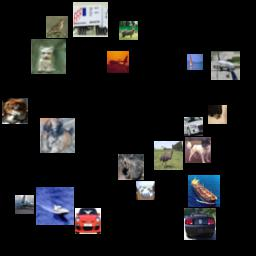airplane: (211, 51, 240, 80), (107, 51, 129, 73), (15, 195, 34, 214)
automobile: (184, 208, 216, 240), (75, 208, 101, 234), (184, 117, 203, 136)
bird: (154, 141, 183, 170), (46, 16, 68, 38)
cat: (136, 181, 155, 200), (208, 105, 227, 124)
deer: (119, 21, 138, 40)
dog: (31, 39, 66, 74), (40, 118, 75, 153), (185, 137, 211, 163), (2, 98, 28, 124)
frog: (118, 154, 144, 180)
ship: (36, 187, 74, 225), (188, 175, 220, 207), (187, 54, 203, 70)
truck: (73, 2, 108, 37)
